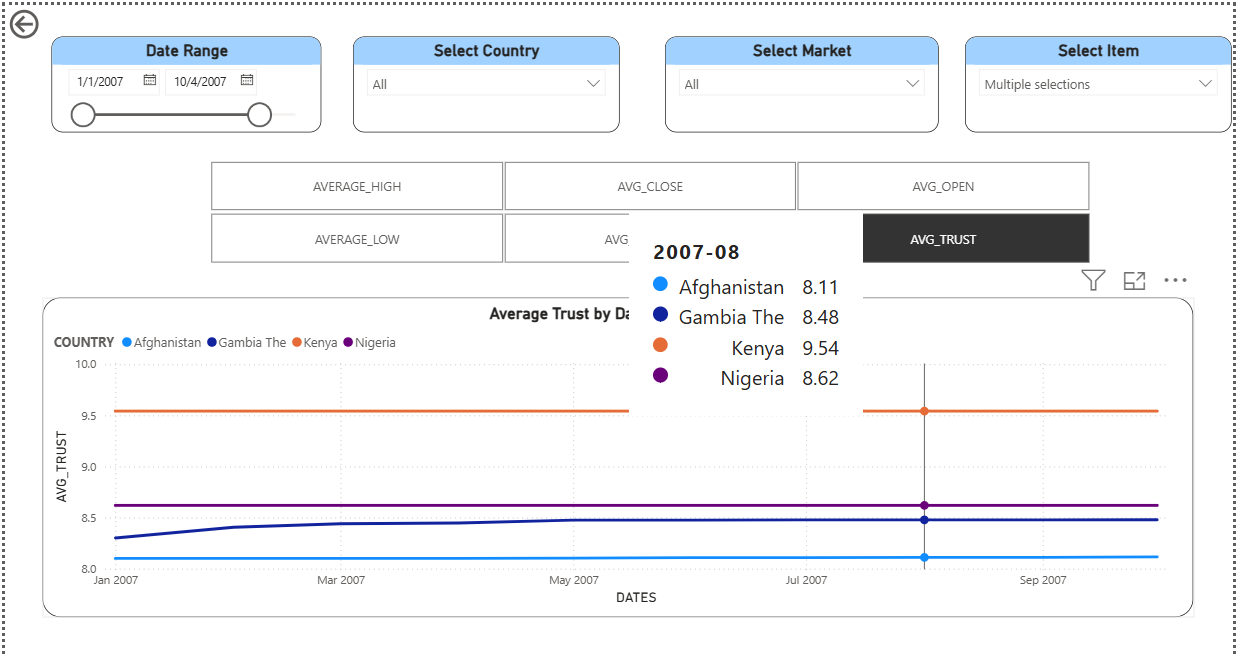

The page's visual inventory and layout, read from the dashboard file:
{"tool":"powerbi","page":{"name":"Average price by markets ","canvas":[1280,720],"ordinal":2},"visuals":[{"type":"slicer","title":"Select Country","fields":{"Values":["s3_snowflake_realtime.COUNTRY"]},"box":[362.8,32.1,277.8,100.2],"z":0},{"type":"slicer","title":"Select Market","fields":{"Values":["s3_snowflake_realtime.MKT_NAME"]},"box":[687.9,32.1,285.4,100.2],"z":1000},{"type":"slicer","title":"Select Item","fields":{"Values":["s3_snowflake_realtime.ITEM"]},"box":[1001.6,32.1,277.8,100.2],"z":2000},{"type":"actionButton","box":[0,0,100,40],"z":3000},{"type":"slicer","title":"Date Range","fields":{"Values":["s3_snowflake_realtime.DATES"]},"box":[49.1,32.1,281.6,100.2],"z":4000},{"type":"lineChart","title":"Average Trust by Dates and Country","fields":{"Category":["s3_snowflake_realtime.DATES"],"Series":["s3_snowflake_realtime.COUNTRY"],"Y":["s3_snowflake_realtime.AVG_TRUST"]},"box":[39.7,304.7,1199.9,333.1],"z":5000},{"type":"slicer","fields":{"Values":["Custom_filters.Custom_filters"]},"box":[189.3,157.1,965.2,119.2],"z":5001}]}

Visuals, with their boxes on the page's 1280x720 design canvas (x1, y1, x2, y2). These are canvas units, not pixel positions in the 1242x657 screenshot, which may show the page scaled, cropped or inside an application window:
"Select Country" slicer: Rect(363, 32, 641, 132)
"Select Market" slicer: Rect(688, 32, 973, 132)
"Select Item" slicer: Rect(1002, 32, 1279, 132)
actionButton: Rect(0, 0, 100, 40)
"Date Range" slicer: Rect(49, 32, 331, 132)
"Average Trust by Dates and Country" lineChart: Rect(40, 305, 1240, 638)
slicer - Custom_filters.Custom_filters: Rect(189, 157, 1154, 276)
